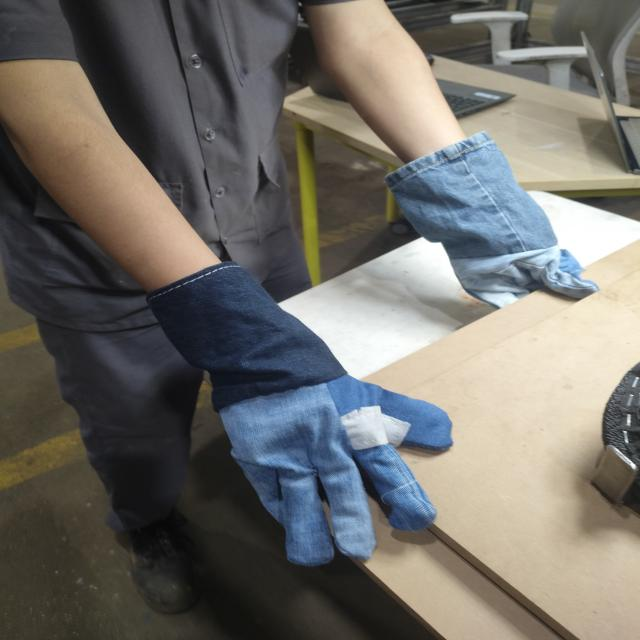Gloves-Detection: (162, 267, 452, 560), (369, 150, 590, 304)
